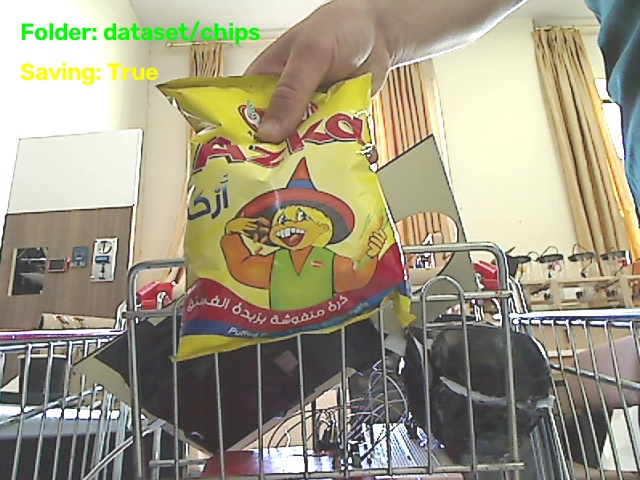chips: (159, 76, 412, 360)
